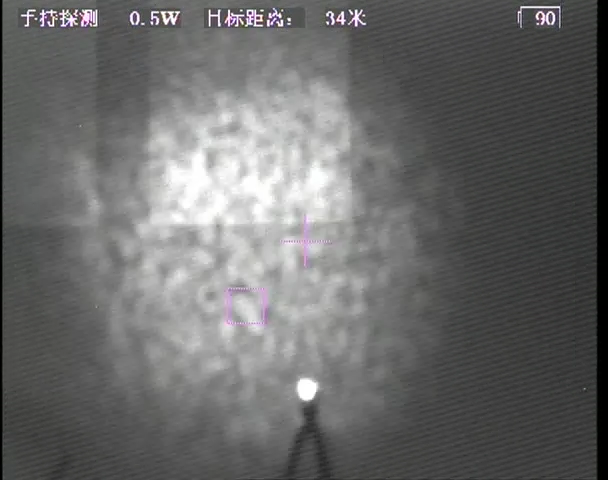my: (294, 377, 318, 400)
